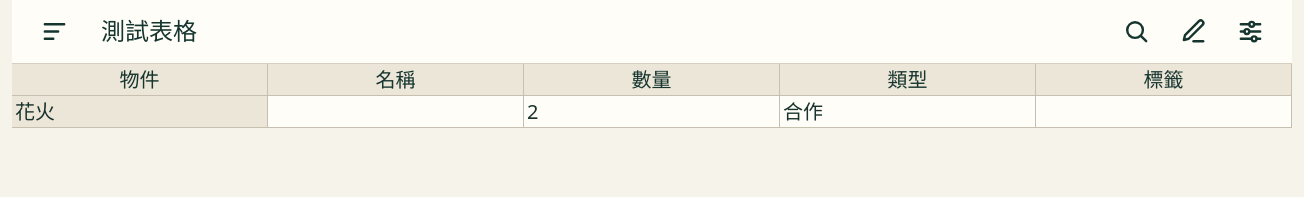
Test: WorkspacePage.filters › opens search after holding a vertical boundary bounce for half a second
Expected: the table is shown, [12,64,1292,128]
Press the mouse on the cell named "花火，名稱：空白": (396, 112) [268,96,524,128]
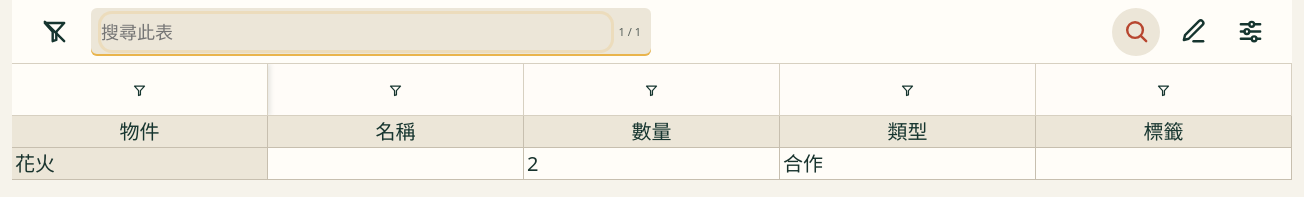
Expected: the search field labelled "搜尋此表" is shown, [101,14,611,50]
